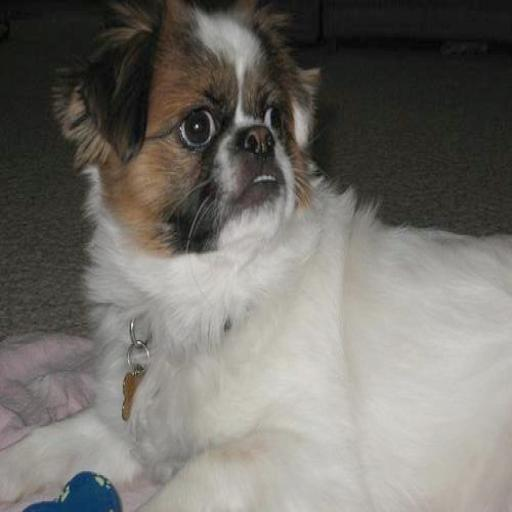dog_face: (58, 9, 320, 256)
